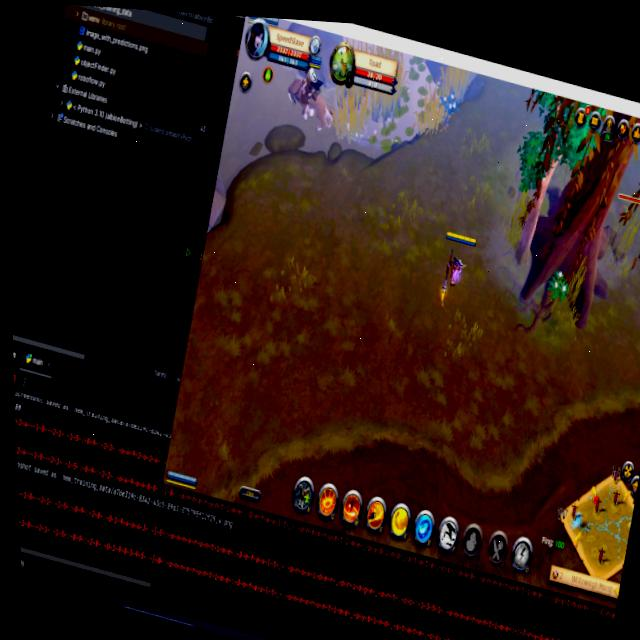hide: (540, 258, 577, 315), (430, 78, 465, 132)
red: (259, 37, 355, 144), (421, 221, 492, 327), (163, 456, 206, 494)
wisp caged: (489, 81, 612, 296)
